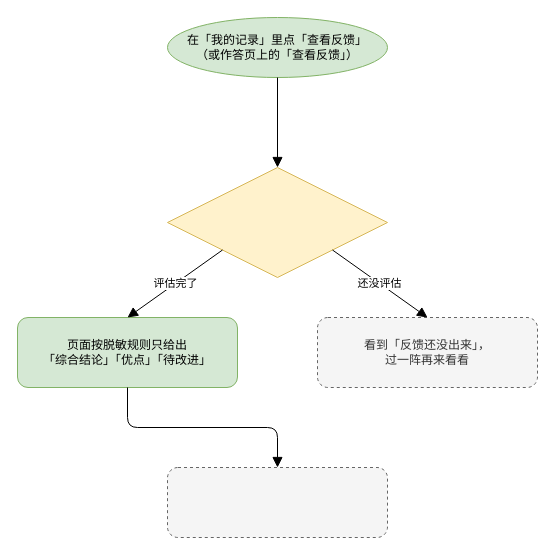
This 555x555 diagram has some shape labels left out. The shapes that lost their labels are listed below. From the top down, each one's centre as x and y in pixels, then its label:
At pixel 277 222: "招聘方评估完了吗？".
At pixel 277 502: "开放了更多内容时， 页面上会多一块「总分」".
